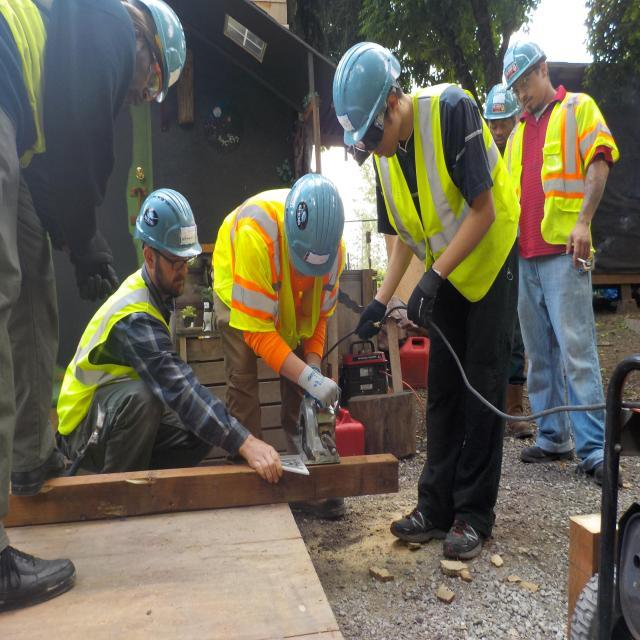reflective_jacket: (380, 87, 520, 300), (212, 192, 343, 340), (54, 275, 166, 429), (524, 90, 618, 246), (0, 1, 50, 166)
safety_helmet: (273, 171, 343, 285), (332, 37, 402, 143), (131, 185, 201, 259), (501, 37, 547, 87), (481, 80, 519, 120)
